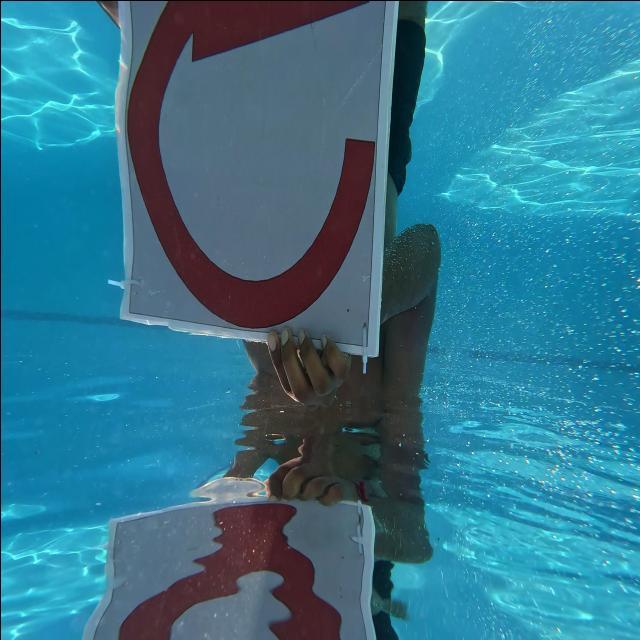red_side: (119, 0, 383, 366)
